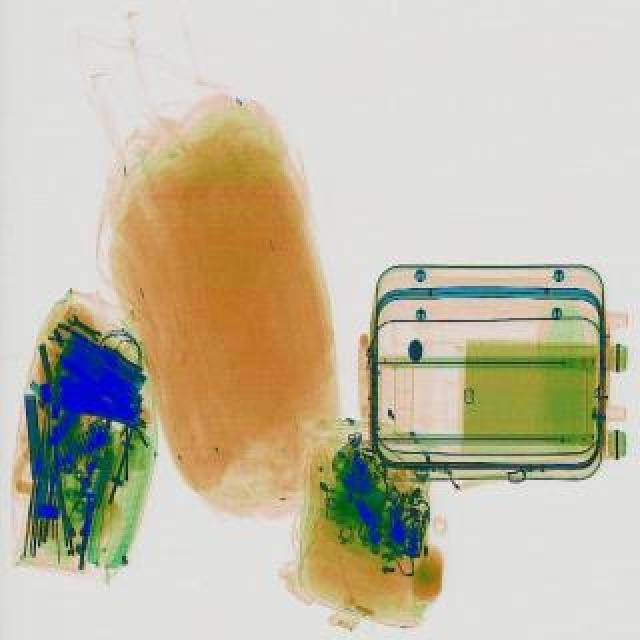scissors: (64, 310, 104, 342)
